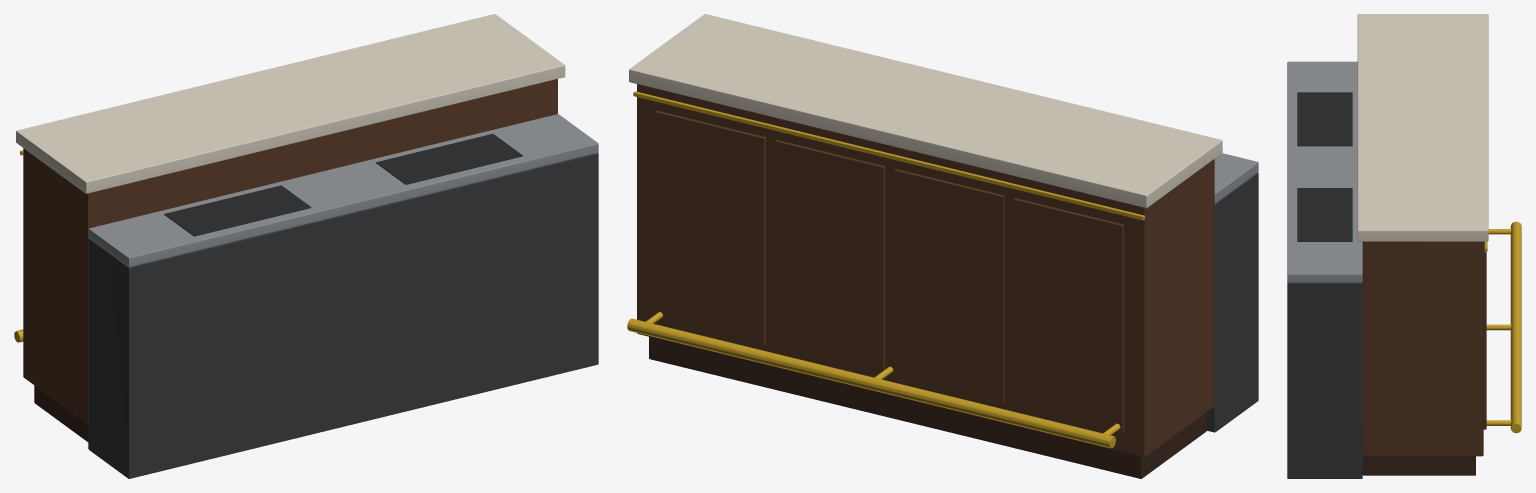
The model's file is prop_bar_counter_gala.glb.
The picture shows the model from 3 angles, left to right: view 1: azimuth 30°, elevation 25°; view 2: azimuth 150°, elevation 25°; view 3: azimuth 270°, elevation 25°; orthographic projection. The views are drawn at different scales.
Parts seen in each view (by area): view 1: Bar; view 2: Bar; view 3: Bar.
Boxes of the visible parts, x1=… form: Bar: x1=14, y1=14, x2=598, y2=478; Bar: x1=627, y1=14, x2=1258, y2=478; Bar: x1=1287, y1=14, x2=1521, y2=478.
Size of what is drawn, in the model's own units: 2.04 by 1.1 by 0.9316.
